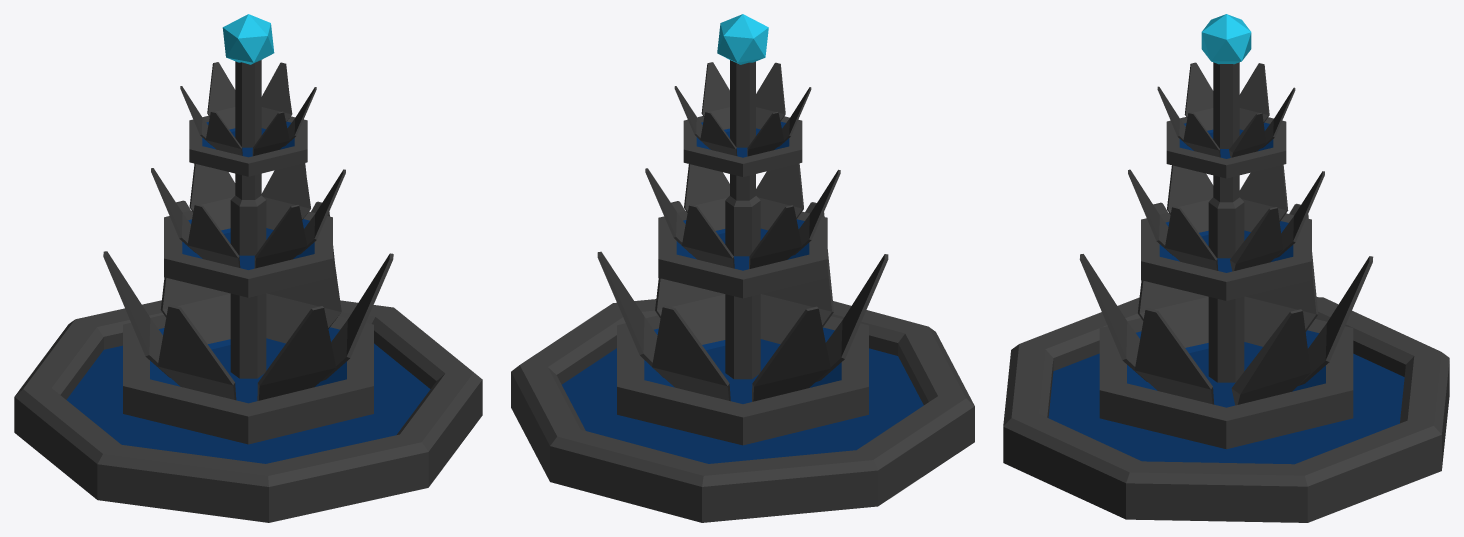
The model's file is ShieldTurret.glb.
3 renders of one model, left to right at view 1: azimuth 30°, elevation 25°; view 2: azimuth 150°, elevation 25°; view 3: azimuth 270°, elevation 25°, orthographic.
Parts seen in each view (by area): view 1: BaseShieldTurret1, Gun1ShieldTurret1, Gun2ShieldTurret1, Gun3ShieldTurret1, MiddleShieldTurret1, StorageShieldTurret1; view 2: BaseShieldTurret1, Gun1ShieldTurret1, Gun2ShieldTurret1, Gun3ShieldTurret1, MiddleShieldTurret1, StorageShieldTurret1; view 3: BaseShieldTurret1, Gun1ShieldTurret1, Gun2ShieldTurret1, Gun3ShieldTurret1, MiddleShieldTurret1, StorageShieldTurret1.
Boxes of the visible parts, box(x1,y1,x2,y2) form: BaseShieldTurret1: box(14, 300, 482, 522); Gun1ShieldTurret1: box(103, 200, 393, 444); Gun2ShieldTurret1: box(151, 163, 345, 297); Gun3ShieldTurret1: box(180, 62, 316, 176); MiddleShieldTurret1: box(230, 60, 266, 378); StorageShieldTurret1: box(222, 14, 274, 64); BaseShieldTurret1: box(511, 299, 974, 522); Gun1ShieldTurret1: box(597, 201, 888, 445); Gun2ShieldTurret1: box(645, 163, 840, 298); Gun3ShieldTurret1: box(674, 62, 811, 176); MiddleShieldTurret1: box(725, 60, 760, 379); StorageShieldTurret1: box(717, 14, 768, 64); BaseShieldTurret1: box(1003, 297, 1449, 522); Gun1ShieldTurret1: box(1079, 202, 1373, 449); Gun2ShieldTurret1: box(1128, 164, 1324, 300); Gun3ShieldTurret1: box(1157, 62, 1295, 178); MiddleShieldTurret1: box(1208, 62, 1244, 382); StorageShieldTurret1: box(1201, 14, 1251, 64).
Bounding box in the file's own units: 3.69 × 3.78 × 3.69.
